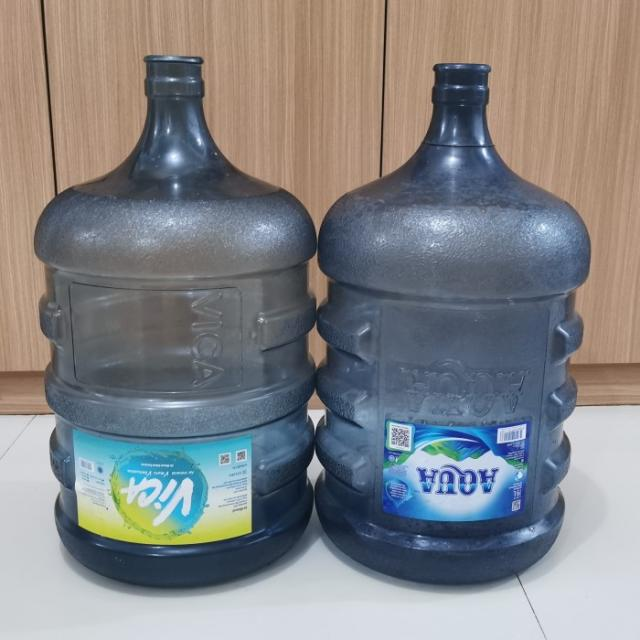Galon: (32, 52, 318, 588), (313, 60, 592, 585)
